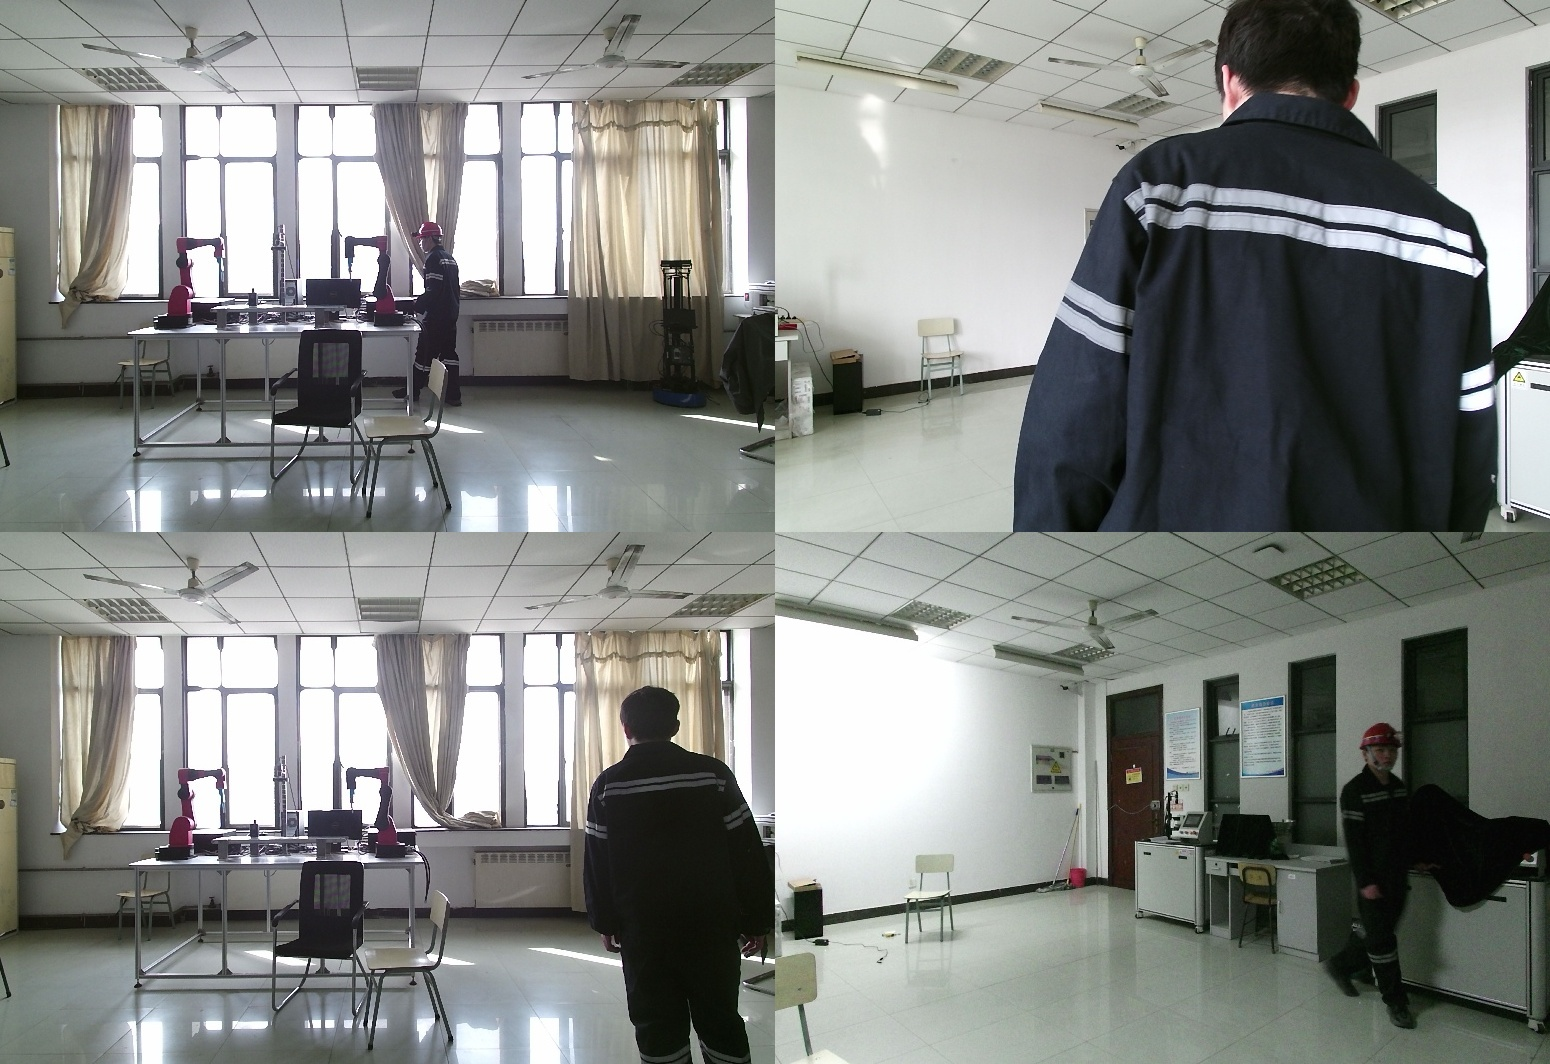person: (1014, 2, 1497, 532), (582, 686, 769, 1064), (1320, 726, 1431, 1032), (396, 224, 469, 409)
